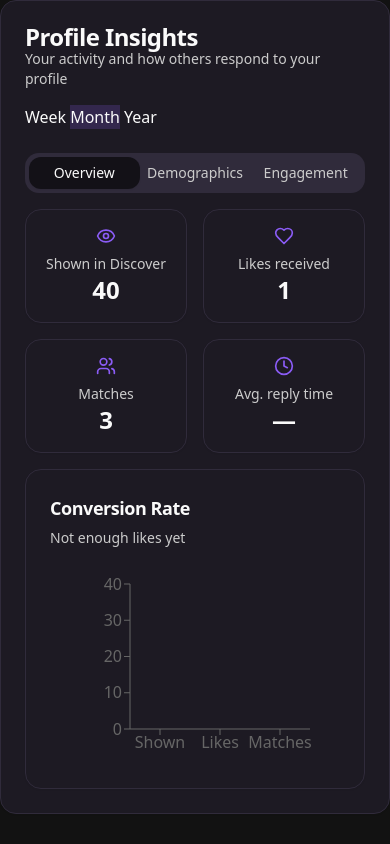
Scenario: ProfileInsights › shows only API values (no fixed percentages)
The image size is (390, 844).
Expected: the text "Likes received" is shown, [238,254,330,274]
Step 1. Press the mouse on the tab "Engagement" → (306, 173), box [250,157,361,189]
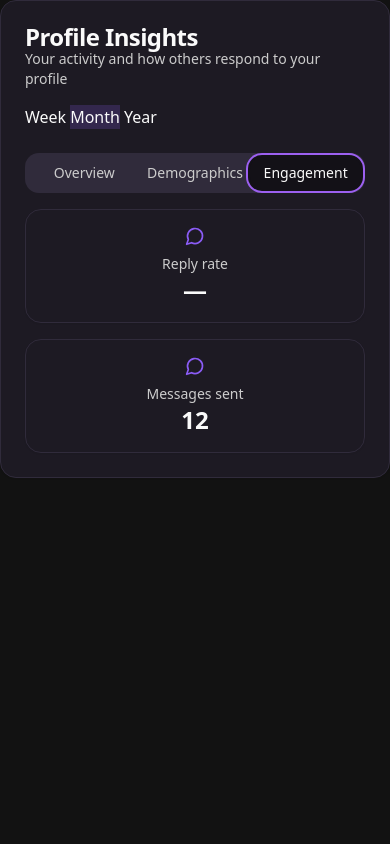
Now the text "Messages sent" is shown, box [146,384,244,404]
